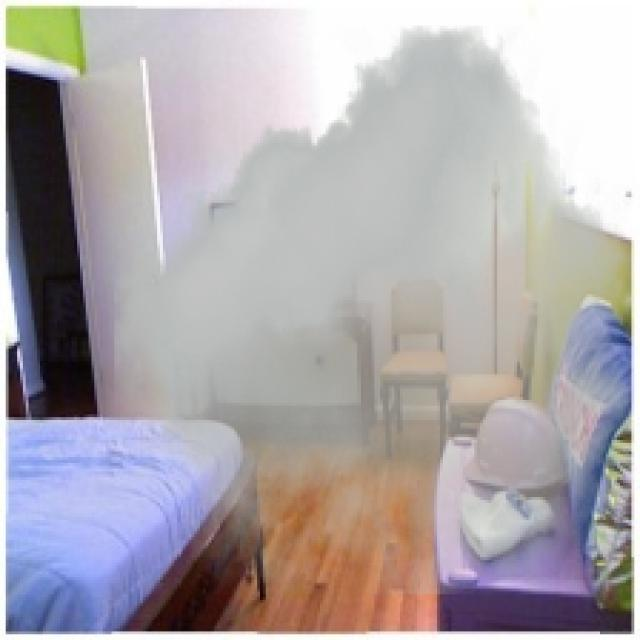smoke: (115, 26, 634, 594)
